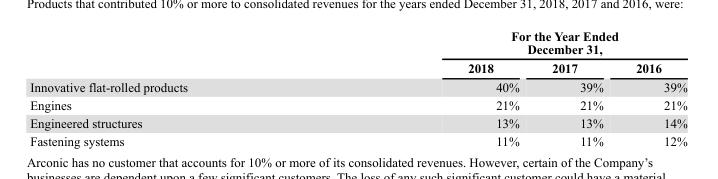table: (29, 28, 686, 147)
table column: (29, 28, 327, 147), (327, 28, 535, 147), (535, 28, 618, 147), (618, 28, 686, 147)
table column header: (29, 28, 686, 77)
table row: (29, 28, 686, 58), (29, 58, 686, 77), (29, 77, 686, 95), (29, 95, 686, 113), (29, 113, 686, 131), (29, 131, 686, 147)
table spanning cell: (327, 28, 686, 58)
